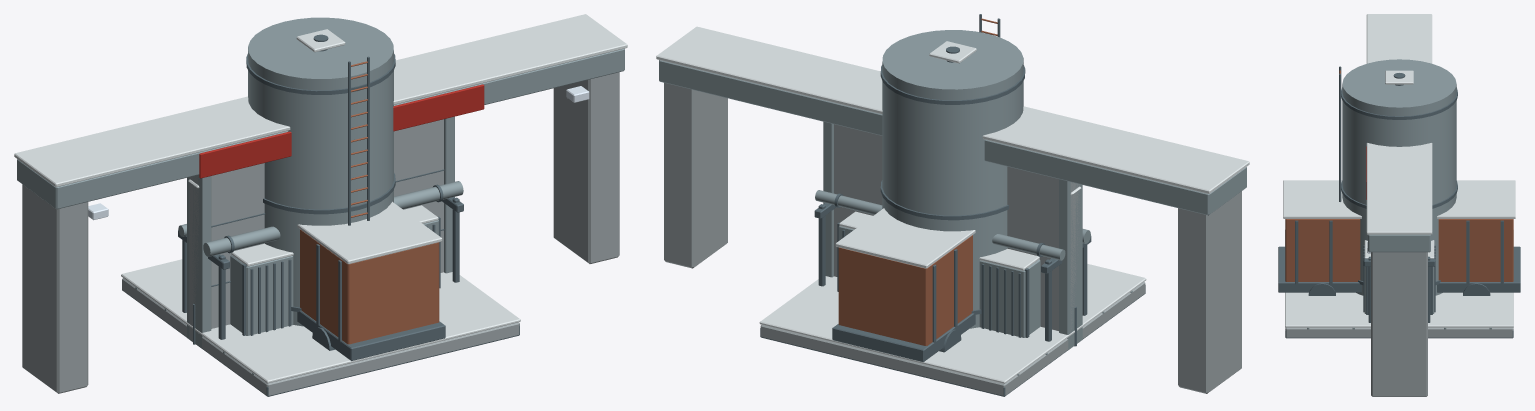
Rendered from modules.glb.
The picture shows the model from 3 angles, left to right: view 1: azimuth 30°, elevation 25°; view 2: azimuth 150°, elevation 25°; view 3: azimuth 270°, elevation 25°; orthographic projection. The views are drawn at different scales.
Visible parts, largest first — view 1: checkpoint, tank, railcar, perimeter, roof, container, deck, pipes; view 2: checkpoint, tank, railcar, perimeter, roof, container, deck, pipes; view 3: checkpoint, railcar, tank, roof, deck, container, pipes.
Boxes of the visible parts, x1,y1,x2,y2 form: checkpoint: (14, 14, 627, 393); tank: (246, 17, 395, 326); railcar: (297, 201, 445, 360); perimeter: (187, 116, 454, 348); roof: (121, 259, 520, 396); container: (230, 205, 440, 335); deck: (122, 278, 519, 395); pipes: (178, 181, 463, 339); checkpoint: (656, 26, 1249, 393); tank: (880, 14, 1025, 328); railcar: (832, 208, 975, 362); perimeter: (823, 121, 1082, 349); roof: (759, 264, 1146, 396); container: (837, 211, 1040, 337); deck: (760, 282, 1145, 395); pipes: (814, 190, 1091, 341); checkpoint: (1366, 14, 1432, 396); railcar: (1278, 180, 1520, 295); tank: (1339, 59, 1457, 295); roof: (1285, 230, 1513, 338); deck: (1285, 327, 1513, 337); container: (1363, 240, 1435, 314); pipes: (1363, 256, 1435, 322).
Bounding box in the file's own units: 18.1 × 8.53 × 8.5.
